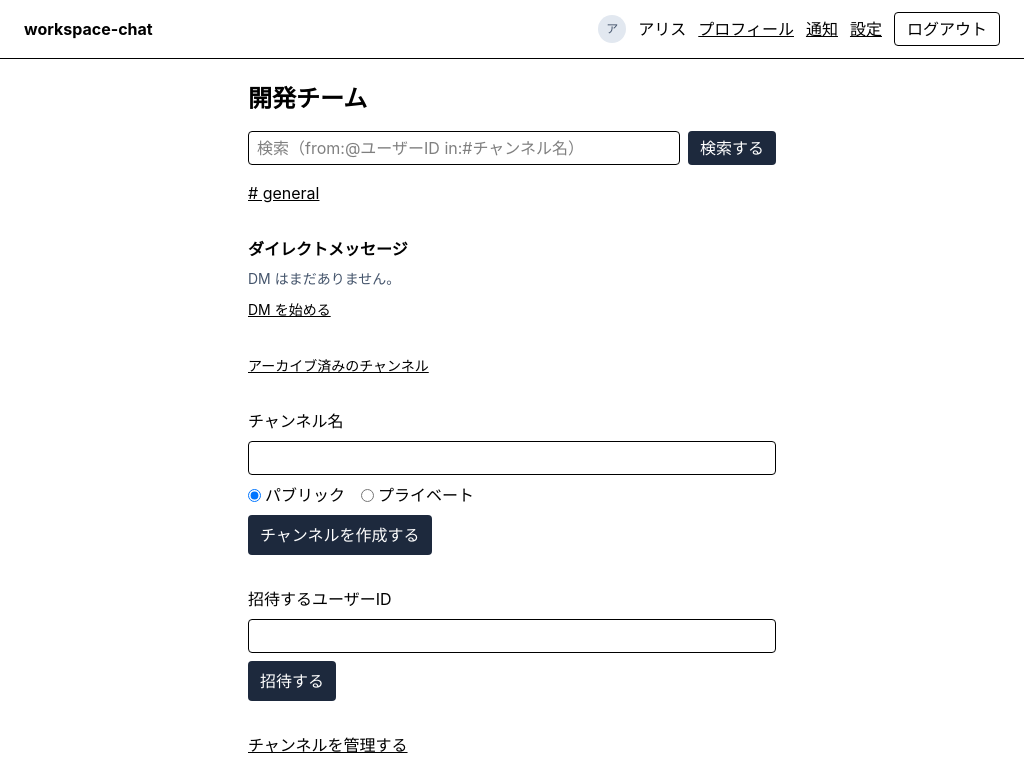
アーカイブ（F-35・3.2） › 確かめてから送り、管理用の一覧の行を応答で置き換え（名前に番号が付く）、一般の一覧からは取り直しを待たずに外す
The image size is (1024, 768).
Expected: the link "# general" is shown, [248,181,319,205]
Click the button "チャンネルを管理する" at (328, 745), box [248,733,408,757]
(page scrolled)
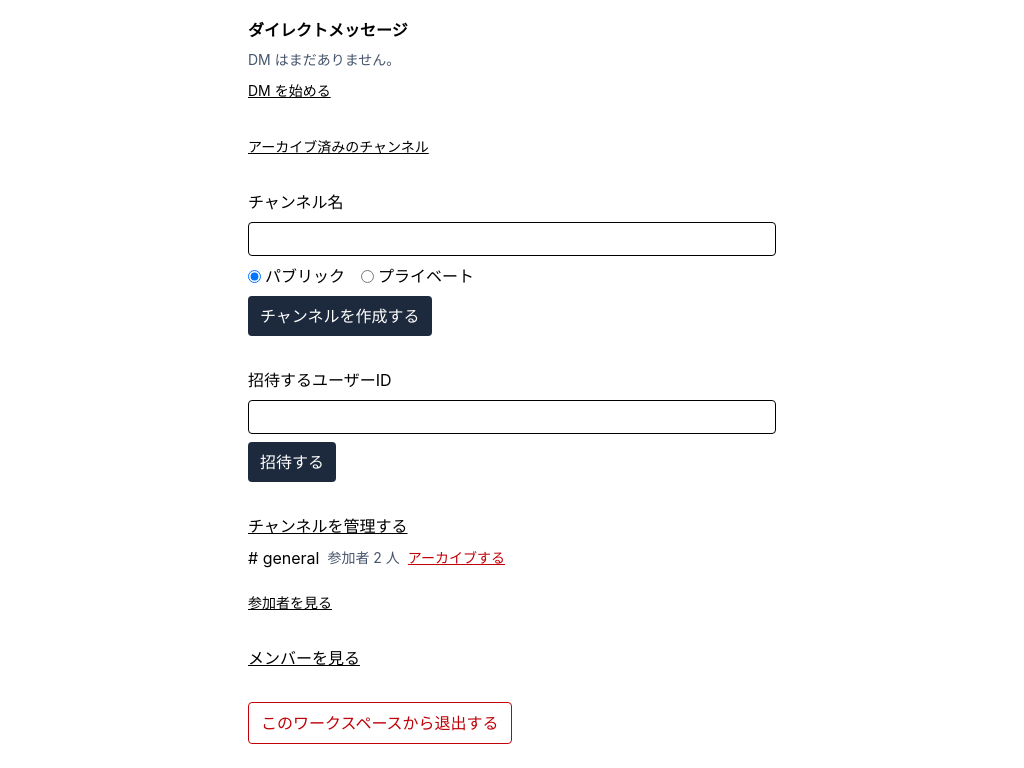
Click the button with aria-label "general をアーカイブする" at (456, 558), box [408,548,505,568]
(page scrolled)
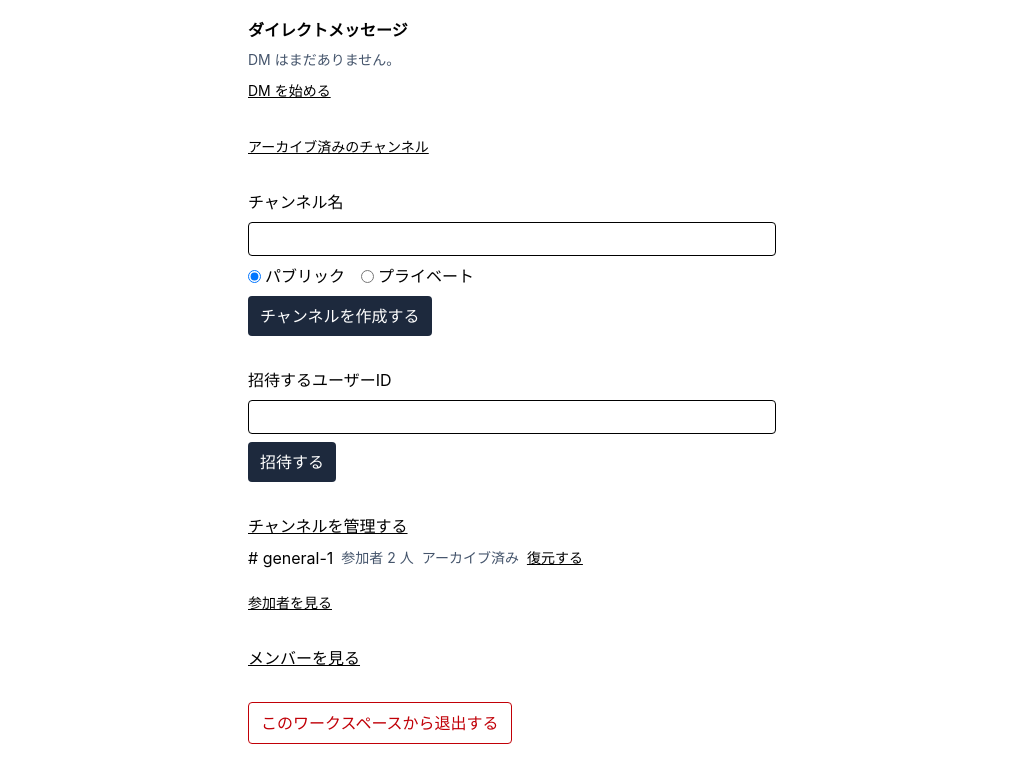
Now the list item shows "アーカイブ済み", box [422,549,519,566]
